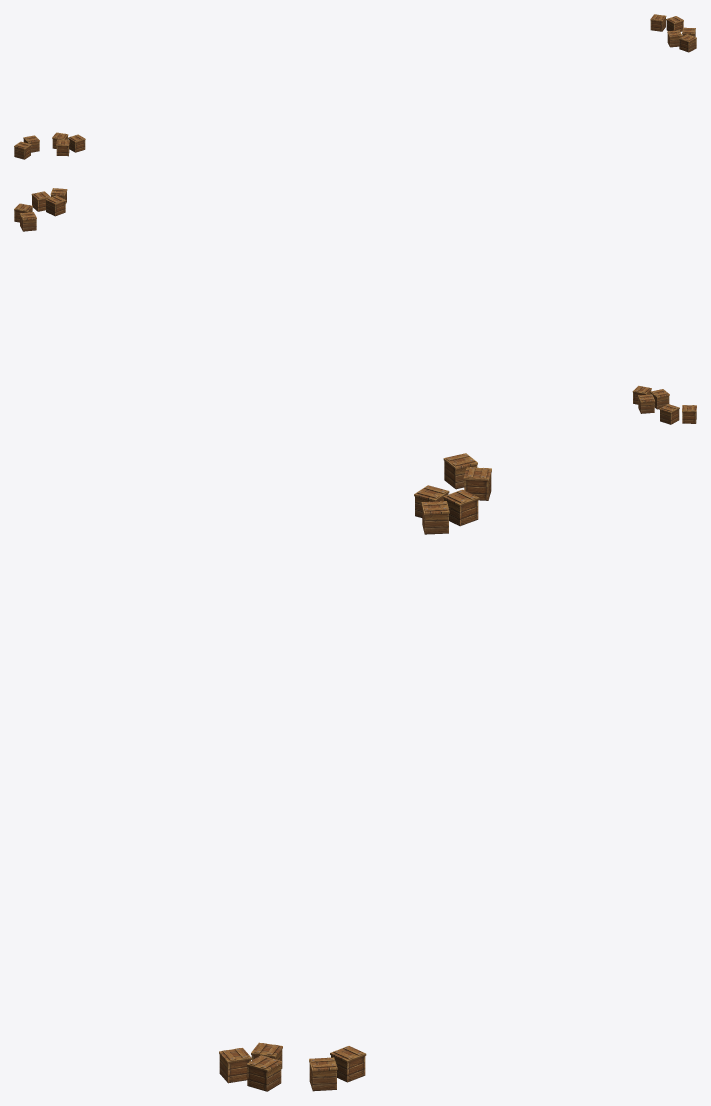
The model's file is yanshi3_wujian1_1.fbx.
3 renders of one model, top to bottom at view 1: azimuth 30°, elevation 25°; view 2: azimuth 150°, elevation 25°; view 3: azimuth 270°, elevation 25°, orthographic. The views are drawn at different scales.
Parts seen in each view (by area): view 1: yanshi3_wujian1_1; view 2: yanshi3_wujian1_1; view 3: yanshi3_wujian1_1.
Boxes of the visible parts, x1,y1,x2,y2 form: yanshi3_wujian1_1: [14, 14, 696, 159]; yanshi3_wujian1_1: [14, 188, 696, 424]; yanshi3_wujian1_1: [219, 453, 491, 1091].
Bounding box in the file's own units: 5236 × 90.48 × 980.
